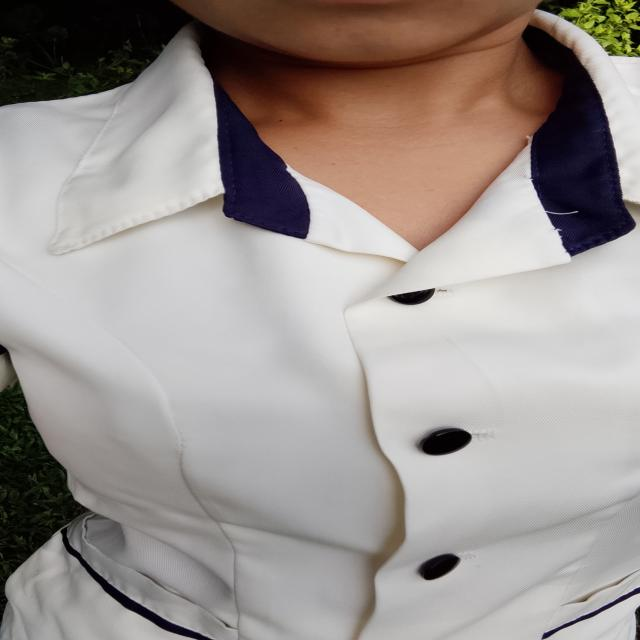education_female_uniform: (9, 32, 640, 640)
